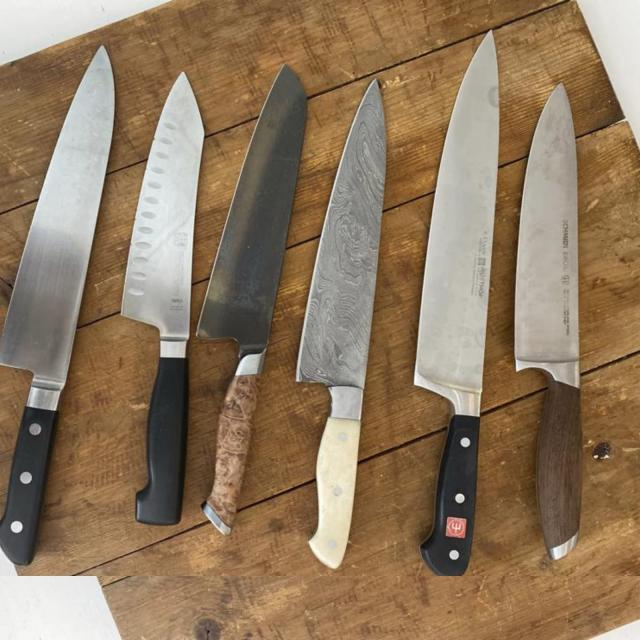knife: (387, 26, 508, 587), (1, 35, 114, 575), (191, 60, 316, 535), (293, 76, 399, 575), (120, 73, 210, 533), (512, 75, 584, 564)
